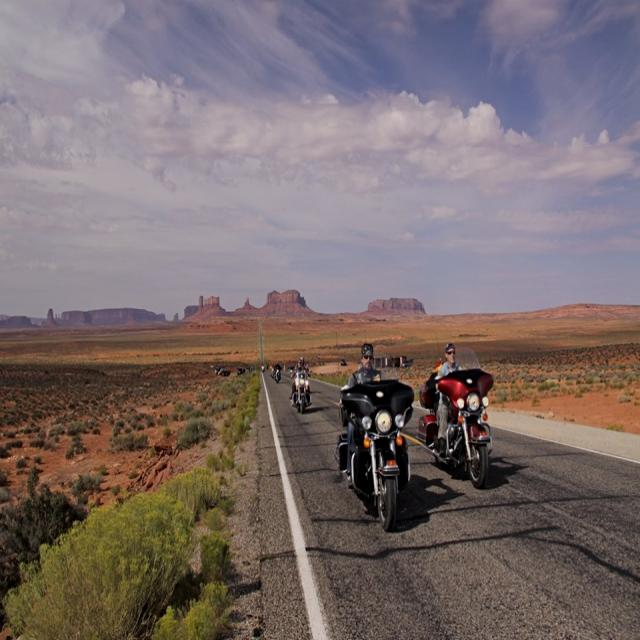MOTORCYCLE: (336, 368, 410, 532), (419, 363, 498, 489), (296, 368, 310, 411)
